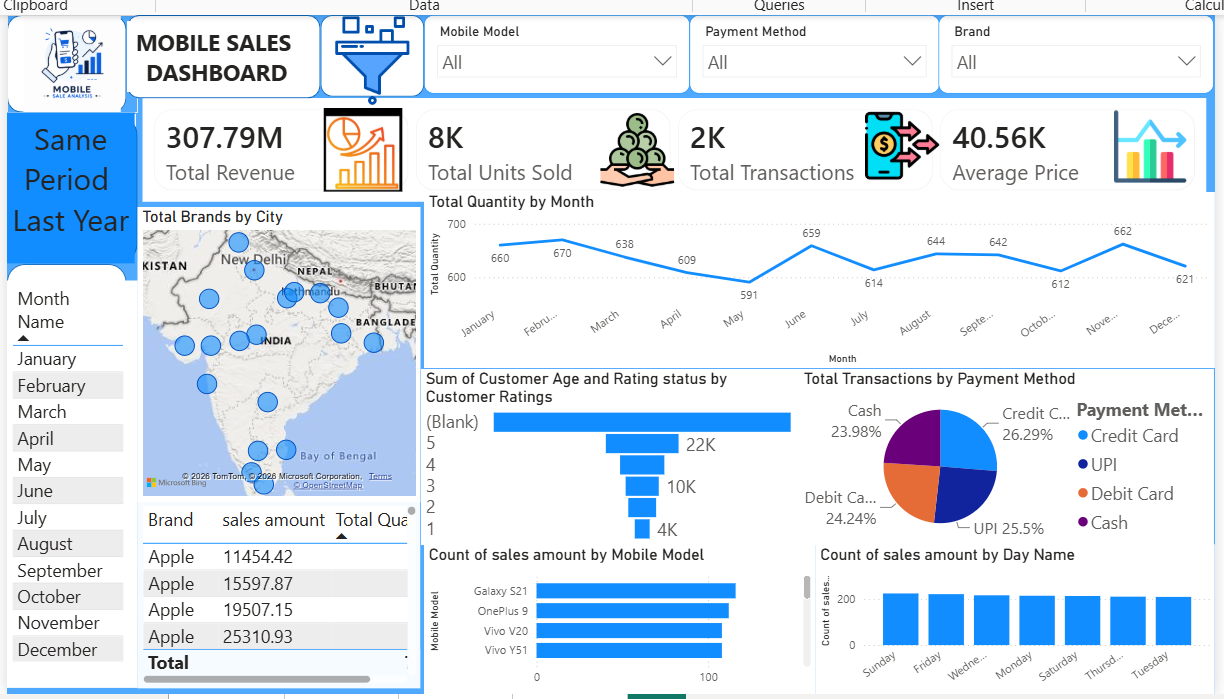

Layout of this report page (visuals, bound fields, positions):
{"tool":"powerbi","page":{"name":"Page 2","canvas":[1280,720],"ordinal":0},"visuals":[{"type":"shape","box":[0,0,126.7,103.3],"z":0},{"type":"image","box":[0,0,138.3,103.3],"z":1000},{"type":"shape","box":[0,106.7,138.3,156.7],"z":2000},{"type":"shape","box":[0,263.3,126.7,443.3],"z":3000},{"type":"tableEx","fields":{"Values":["Calendar_Table.Month Name"]},"box":[0,281.7,138.3,431.7],"z":4000},{"type":"cardVisual","fields":{"Data":["ADAX measures.Total Revenue","ADAX measures.Total Units Sold","ADAX measures.Total Transactions","ADAX measures.Average Price"]},"box":[138.3,83.3,1141.7,120],"z":5000},{"type":"image","box":[626.7,41.7,83.3,203.3],"z":6000},{"type":"image","box":[910,98.3,78.3,80],"z":7000},{"type":"image","box":[1173.3,88.3,76.7,100],"z":8000},{"type":"image","box":[316.7,98.3,121.7,88.3],"z":9000},{"type":"slicer","fields":{"Values":["mobile_sales_data.Mobile Model"]},"box":[441.7,0,281.7,83.3],"z":10000},{"type":"slicer","fields":{"Values":["mobile_sales_data.Payment Method"]},"box":[723.3,0,265,83.3],"z":11000},{"type":"slicer","fields":{"Values":["mobile_sales_data.Brand"]},"box":[988.3,0,291.7,83.3],"z":12000},{"type":"shape","box":[331.7,0,110,86.7],"z":13000},{"type":"image","box":[331.7,0,110,96.7],"z":14000},{"type":"shape","box":[126.7,0,205,88.3],"z":15000},{"type":"textbox","box":[126.7,6.7,190,75],"z":16000},{"type":"map","fields":{"Category":["mobile_sales_data.City"],"Size":["ADAX measures.Total Brands"]},"box":[138.3,203.3,300,311.7],"z":17000},{"type":"lineChart","fields":{"Category":["Calendar_Table.Date.Variation.Date Hierarchy.Month","Calendar_Table.Date.Variation.Date Hierarchy.Day"],"Y":["ADAX measures.Total Quantity"]},"box":[441.7,188.3,838.3,186.7],"z":18000},{"type":"funnel","fields":{"Y":["Sum(Customer_data.Customer Age)"],"Category":["mobile_sales_data.Customer Ratings"]},"box":[438.3,375,401.7,186.7],"z":19000},{"type":"pieChart","fields":{"Y":["ADAX measures.Total Transactions"],"Category":["mobile_sales_data.Payment Method"]},"box":[840,375,440,186.7],"z":20000},{"type":"clusteredBarChart","fields":{"Y":["CountNonNull(mobile_sales_data.sales amount)"],"Category":["mobile_sales_data.Mobile Model"]},"box":[441.7,561.7,415,158.3],"z":21000},{"type":"lineClusteredColumnComboChart","fields":{"Category":["mobile_sales_data.Day Name"],"Y":["CountNonNull(mobile_sales_data.sales amount)"]},"box":[856.7,561.7,423.3,158.3],"z":22000},{"type":"tableEx","fields":{"Values":["mobile_sales_data.Brand","mobile_sales_data.sales amount","ADAX measures.Total Quantity"]},"box":[138.3,515,300,198.3],"z":23000},{"type":"textbox","box":[0,103.3,135,160],"z":24000}]}

Visuals, with their boxes on the page's 1280x720 design canvas (x1, y1, x2, y2). These are canvas units, not pixel positions in the 1224x699 screenshot, which may show the page scaled, cropped or inside an application window:
shape: rect(0, 0, 127, 103)
image: rect(0, 0, 138, 103)
shape: rect(0, 107, 138, 263)
shape: rect(0, 263, 127, 707)
tableEx - Calendar_Table.Month Name: rect(0, 282, 138, 713)
cardVisual - ADAX measures.Total Revenue x ADAX measures.Total Units Sold: rect(138, 83, 1280, 203)
image: rect(627, 42, 710, 245)
image: rect(910, 98, 988, 178)
image: rect(1173, 88, 1250, 188)
image: rect(317, 98, 438, 187)
slicer - mobile_sales_data.Mobile Model: rect(442, 0, 723, 83)
slicer - mobile_sales_data.Payment Method: rect(723, 0, 988, 83)
slicer - mobile_sales_data.Brand: rect(988, 0, 1280, 83)
shape: rect(332, 0, 442, 87)
image: rect(332, 0, 442, 97)
shape: rect(127, 0, 332, 88)
textbox: rect(127, 7, 317, 82)
map - mobile_sales_data.City x ADAX measures.Total Brands: rect(138, 203, 438, 515)
lineChart - Calendar_Table.Date.Variation.Date Hierarchy.Month x Calendar_Table.Date.Variation.Date Hierarchy.Day: rect(442, 188, 1280, 375)
funnel - Sum(Customer_data.Customer Age) x mobile_sales_data.Customer Ratings: rect(438, 375, 840, 562)
pieChart - ADAX measures.Total Transactions x mobile_sales_data.Payment Method: rect(840, 375, 1280, 562)
clusteredBarChart - CountNonNull(mobile_sales_data.sales amount) x mobile_sales_data.Mobile Model: rect(442, 562, 857, 720)
lineClusteredColumnComboChart - mobile_sales_data.Day Name x CountNonNull(mobile_sales_data.sales amount): rect(857, 562, 1280, 720)
tableEx - mobile_sales_data.Brand x mobile_sales_data.sales amount: rect(138, 515, 438, 713)
textbox: rect(0, 103, 135, 263)
